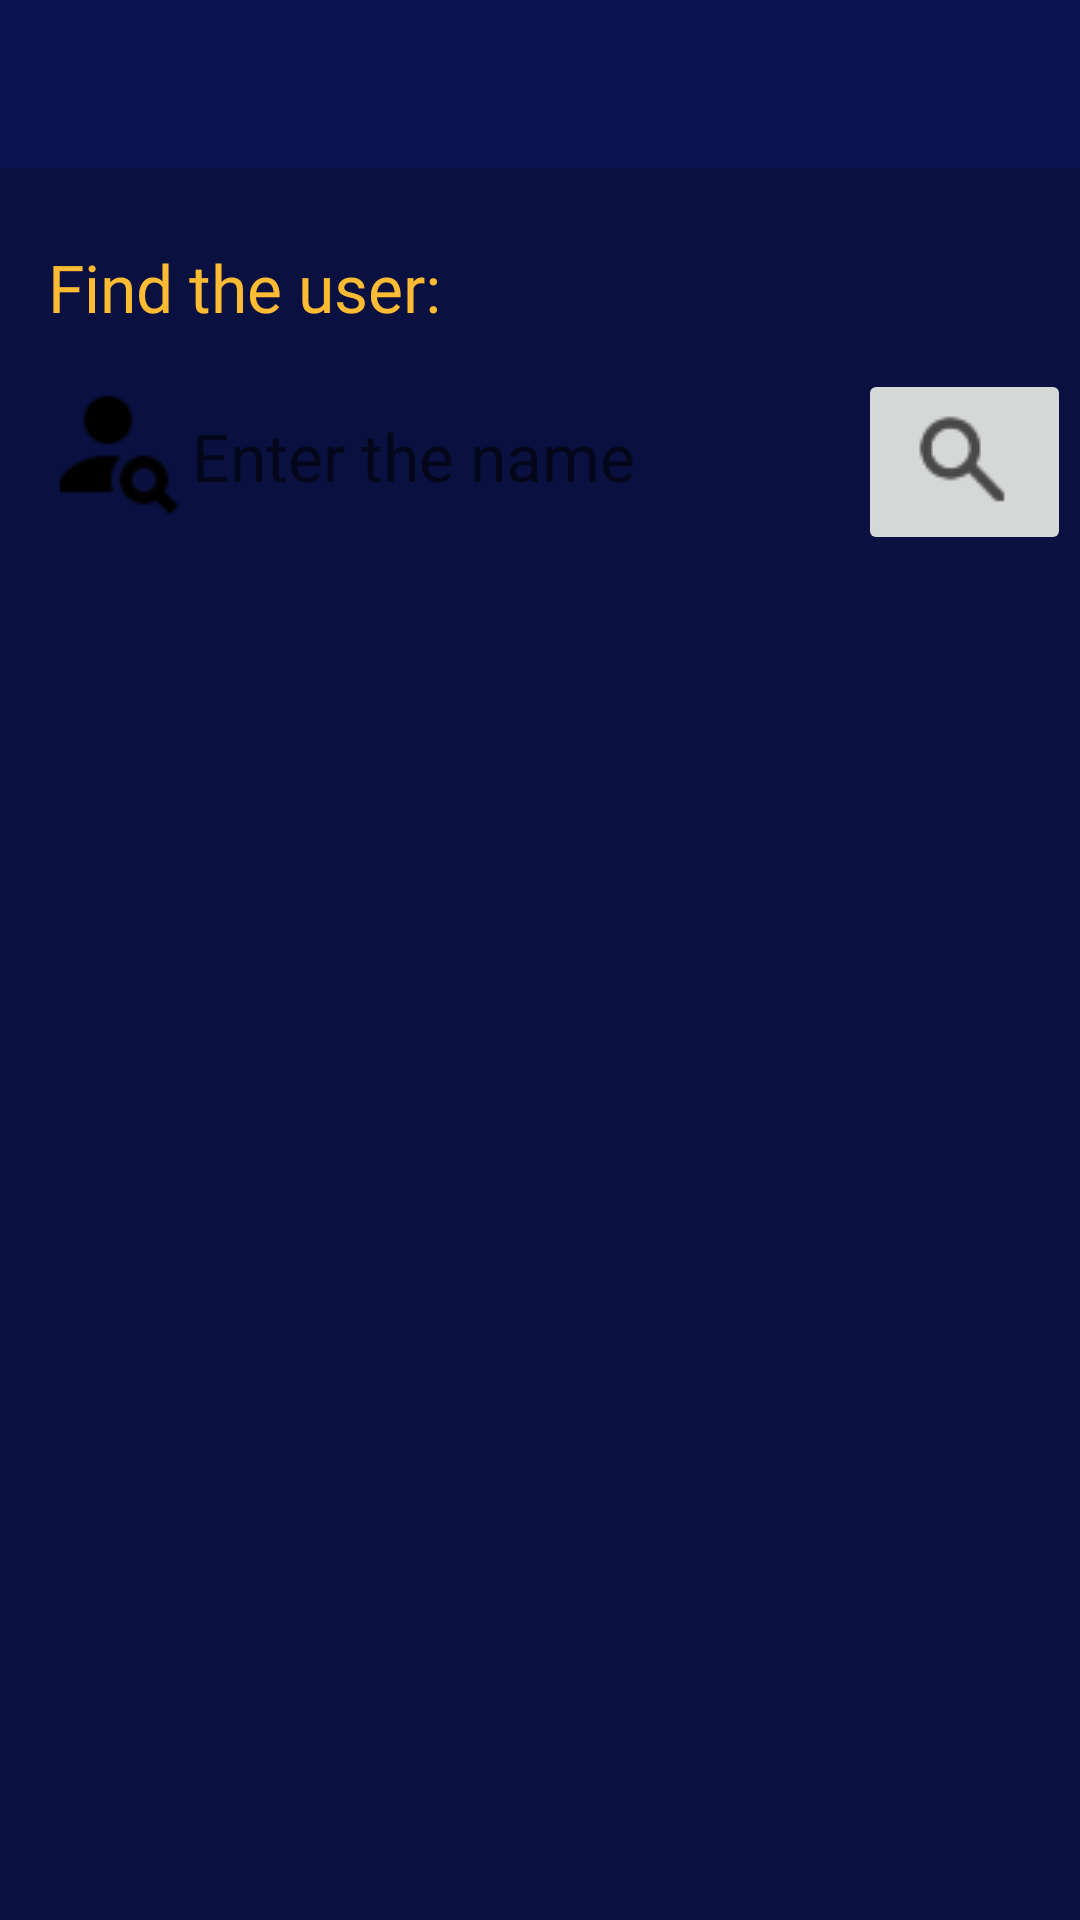

Icon bounding boxes for this 1080 × 1920 phone screenshot, format (x1, y1, x2, y2):
find: (870, 387, 1059, 537)
